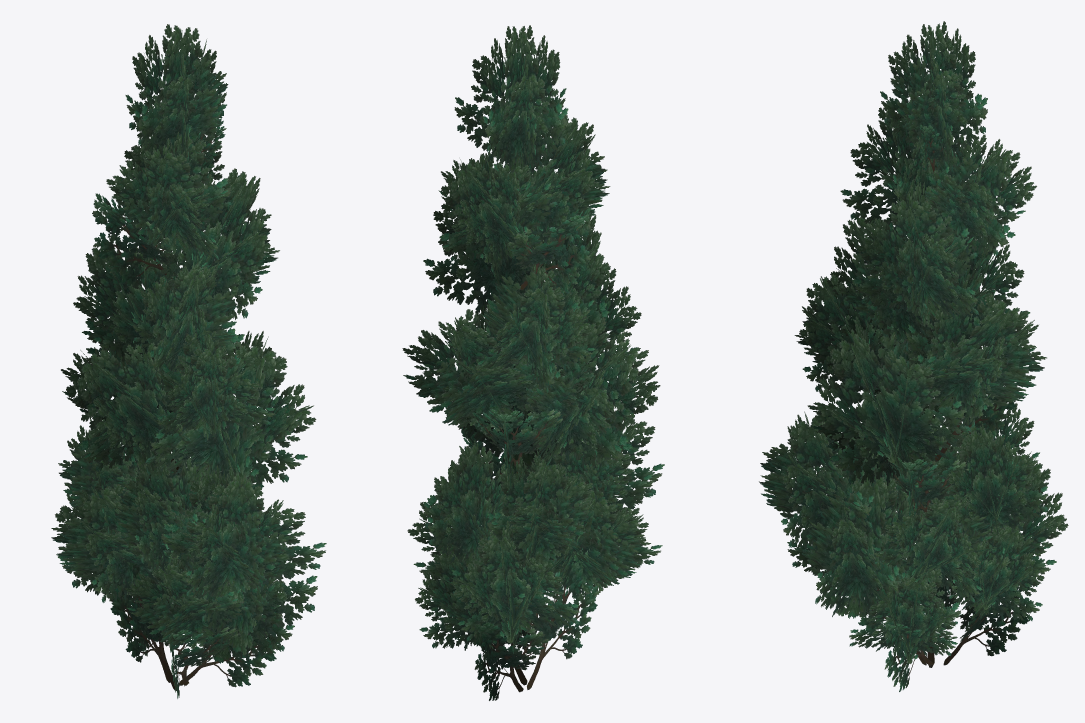
The picture shows the model from 3 angles, left to right: view 1: azimuth 30°, elevation 25°; view 2: azimuth 150°, elevation 25°; view 3: azimuth 270°, elevation 25°; orthographic projection. The views are drawn at different scales.
Size of the model in its own units: 10.93 by 26.99 by 13.12.
Materials: 1 (1 with a texture image).
